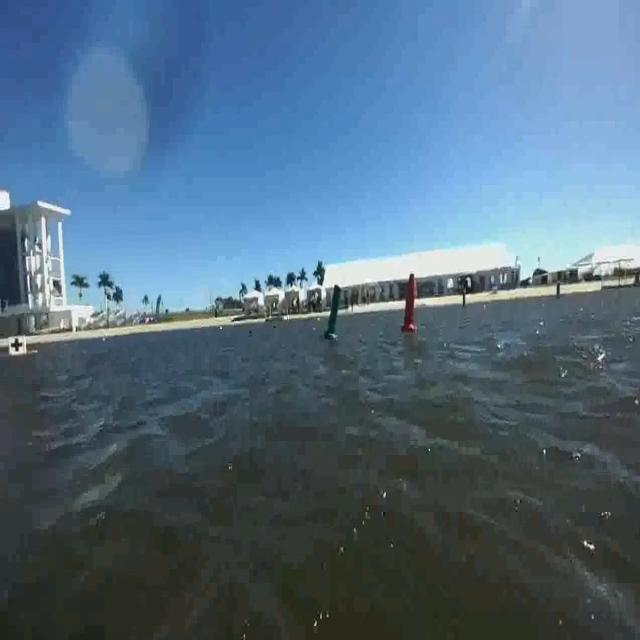green-column-buoy: (323, 283, 343, 340)
red-column-buoy: (402, 271, 422, 333)
